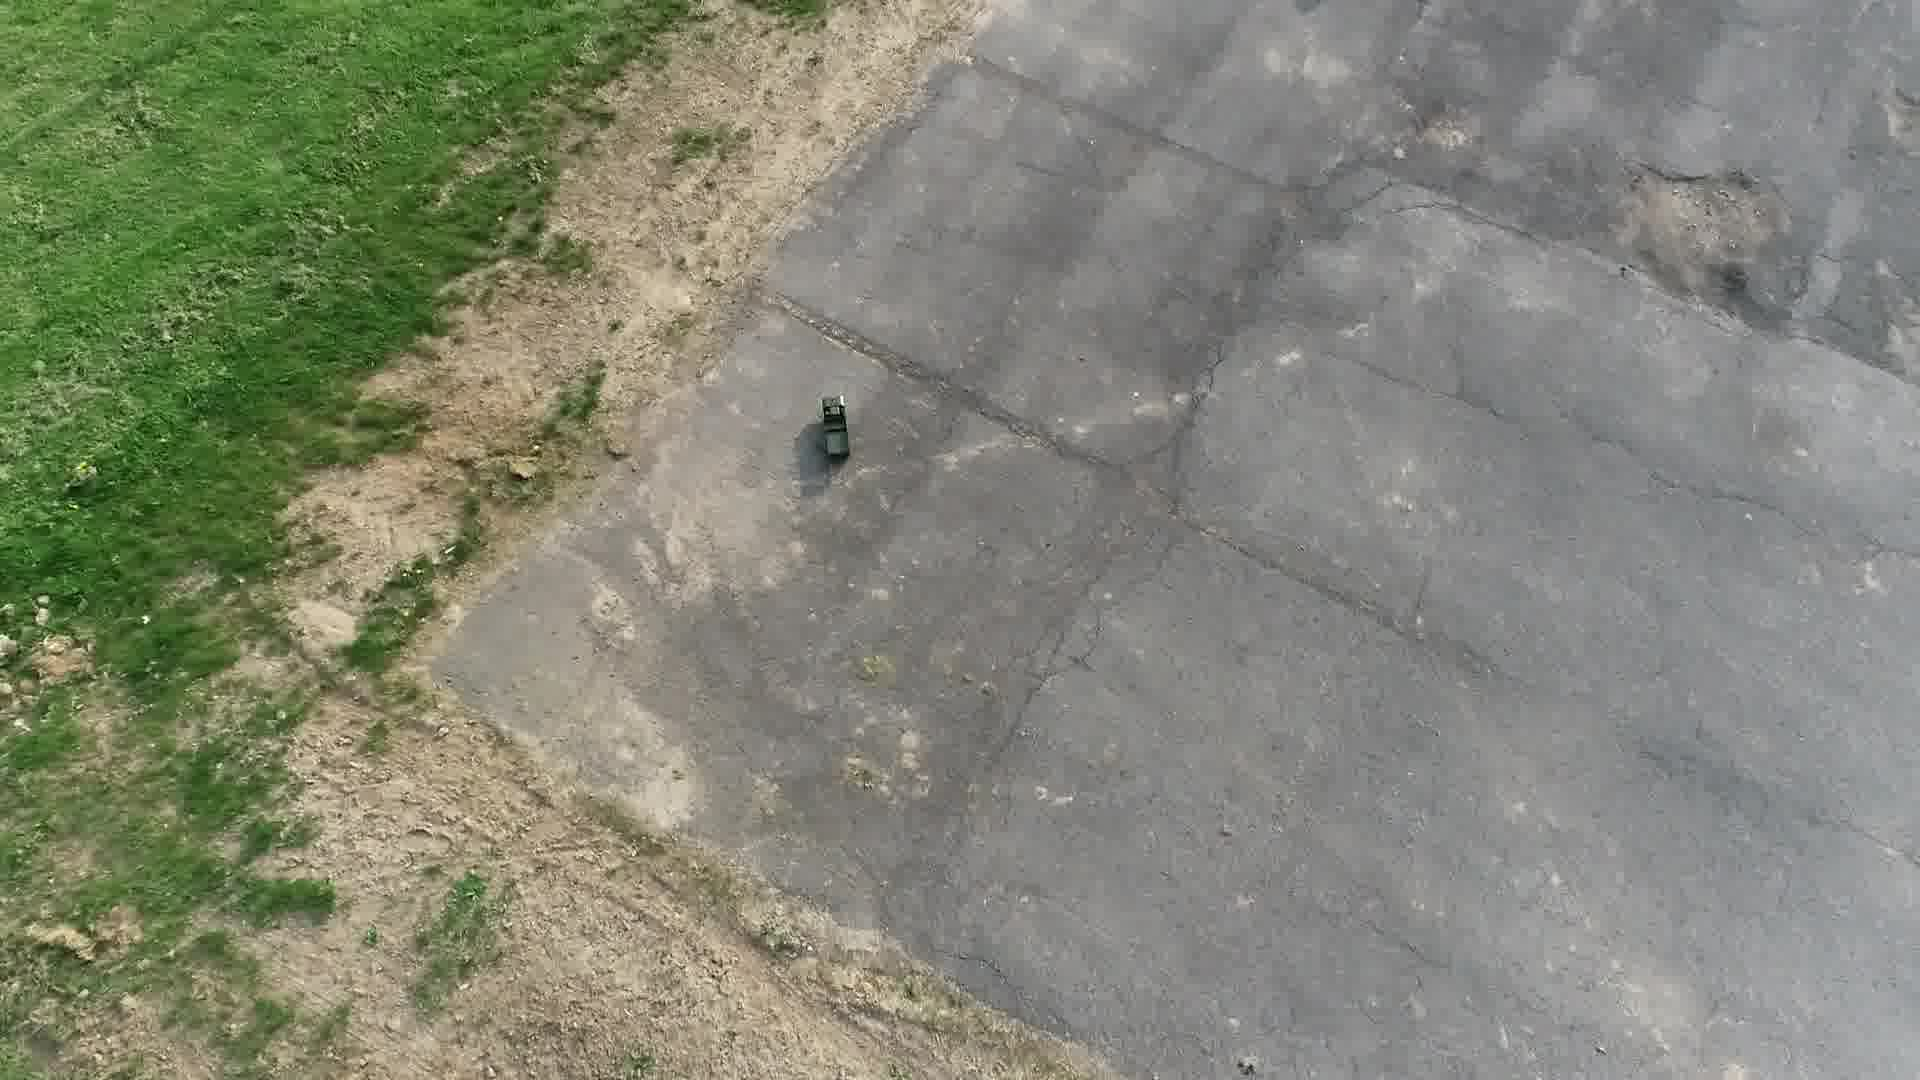transporter9: (814, 386, 864, 469)
